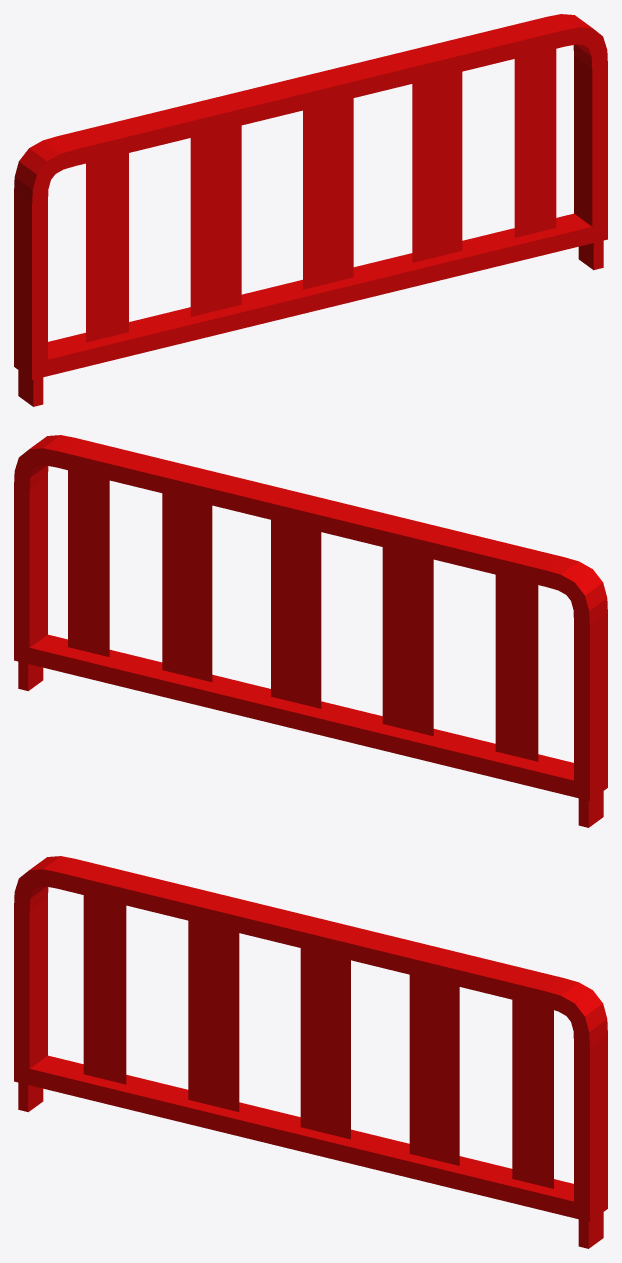
File: Leitplanke.fbx
3 renders of one model, top to bottom at view 1: azimuth 30°, elevation 25°; view 2: azimuth 150°, elevation 25°; view 3: azimuth 330°, elevation 25°, orthographic.
Visible parts, largest first — view 1: Cube.012; view 2: Cube.012; view 3: Cube.012.
Boxes of the visible parts, bbox=[...] form: Cube.012: bbox=[14, 14, 607, 406]; Cube.012: bbox=[14, 435, 607, 827]; Cube.012: bbox=[14, 856, 607, 1248].
Size of the model in its own units: 400 by 165 by 21.81.
